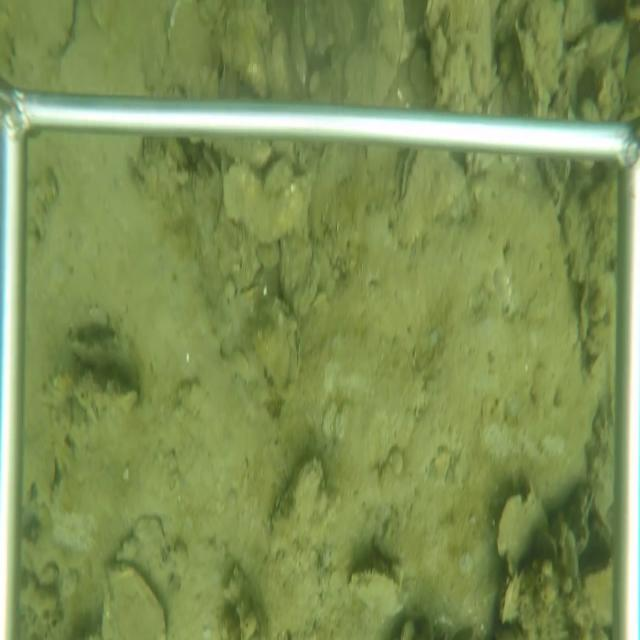Oyster-Closed: (254, 298, 303, 401), (498, 571, 519, 632)
Oyster-Indeterminate: (308, 144, 375, 280), (268, 453, 342, 574), (341, 0, 406, 107), (511, 1, 565, 117), (97, 557, 170, 639), (345, 558, 410, 621), (26, 5, 80, 60), (291, 2, 312, 94)
Oyster-Open: (398, 148, 469, 250)
